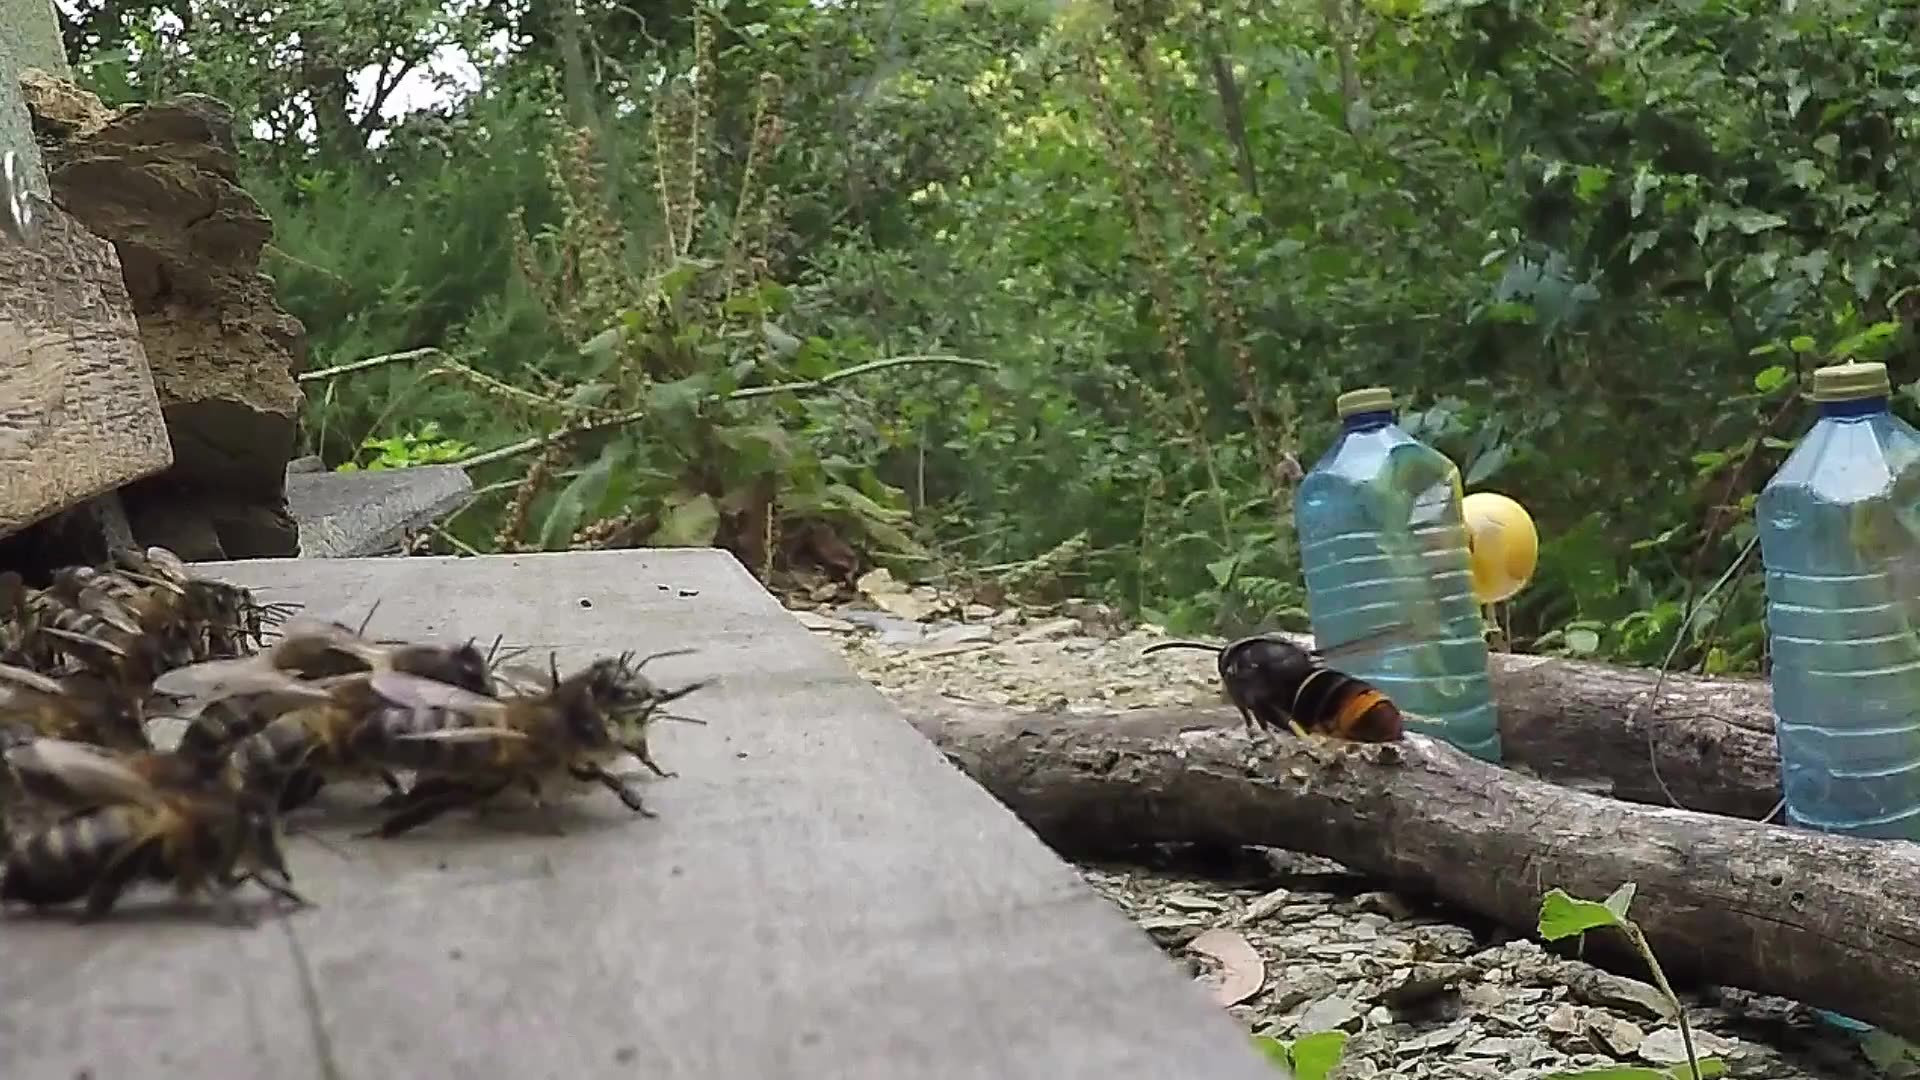bee: (185, 609, 717, 833), (15, 663, 274, 927), (18, 535, 280, 679)
hornet: (1192, 616, 1399, 758)
